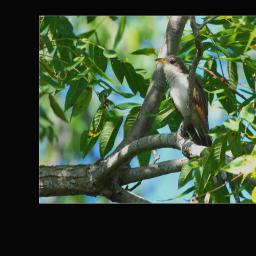Cuckoo: (155, 54, 213, 146)
